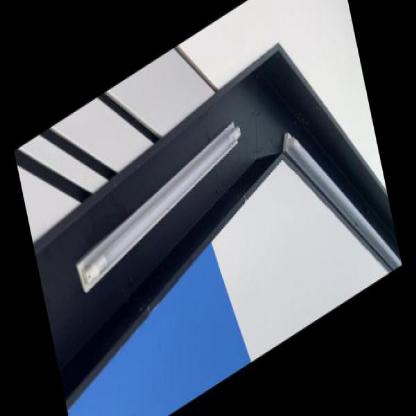light_off: (55, 96, 257, 305), (269, 69, 402, 325)
